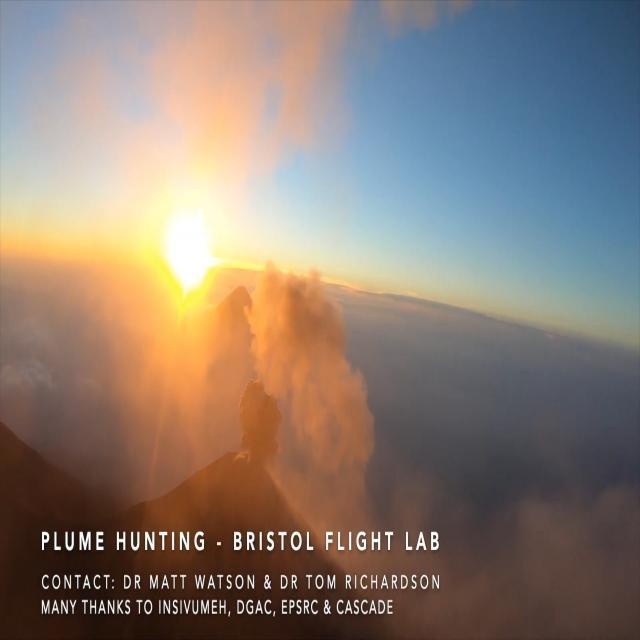Plume: (248, 264, 376, 474), (238, 372, 286, 460)
Summit: (140, 439, 327, 523)
